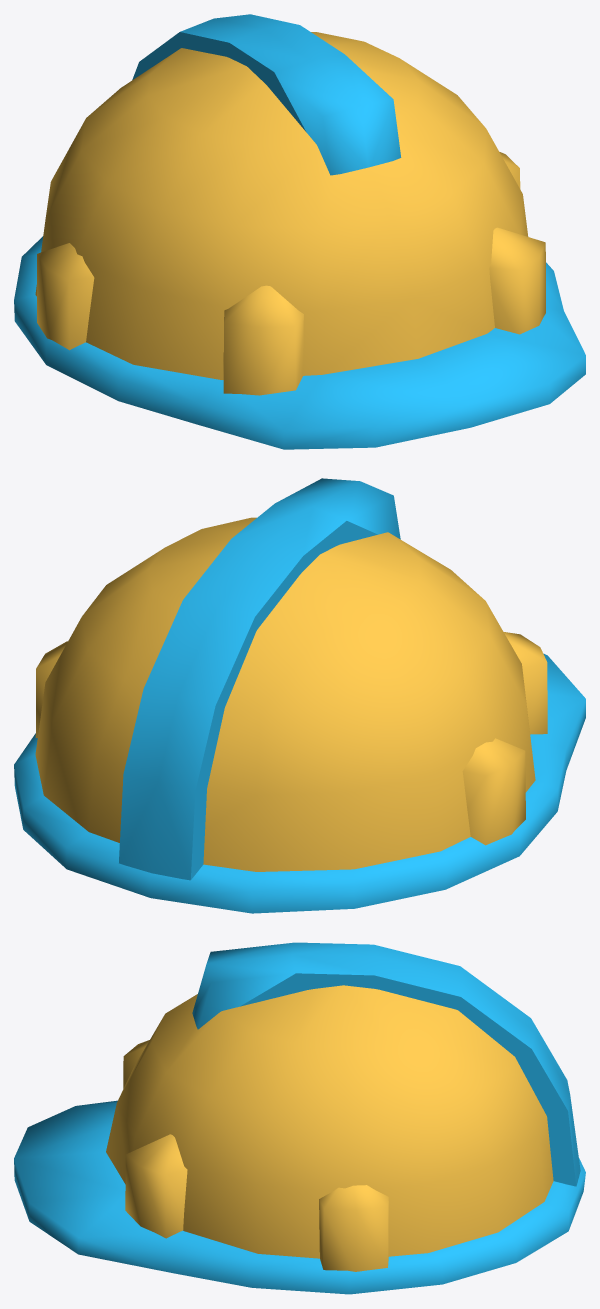
The model's file is buildersclubhemlet.obj.
3 views of the same model, one above another, from view 1: azimuth 30°, elevation 25°; view 2: azimuth 150°, elevation 25°; view 3: azimuth 270°, elevation 25° (orthographic). The views are drawn at different scales.
Visible parts, largest first — view 1: TbcHardHat12; view 2: TbcHardHat12; view 3: TbcHardHat12.
Boxes of the visible parts, bbox=[...] form: TbcHardHat12: bbox=[14, 14, 585, 449]; TbcHardHat12: bbox=[14, 478, 585, 913]; TbcHardHat12: bbox=[14, 942, 585, 1294].
Bounding box in the file's own units: 1.38 × 0.7541 × 1.64.
